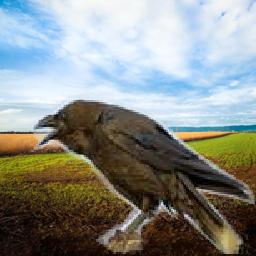Crow: (29, 90, 255, 254)
